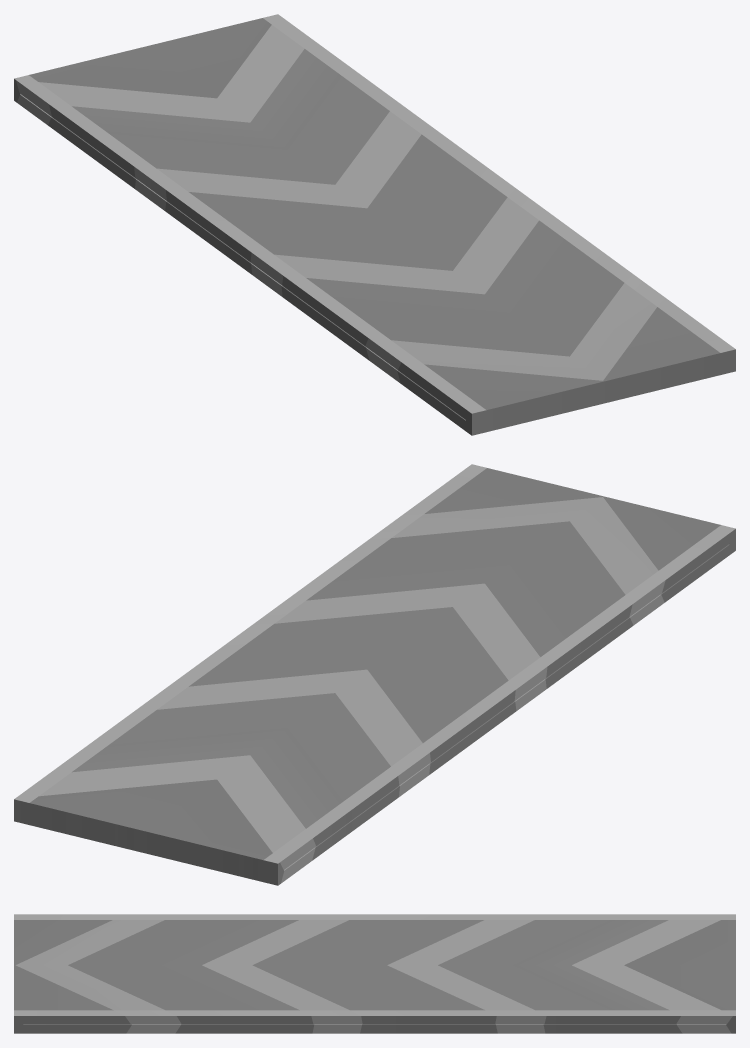
The model's file is mainway (4).fbx.
3 views of the same model, one above another, from view 1: azimuth 30°, elevation 25°; view 2: azimuth 150°, elevation 25°; view 3: azimuth 270°, elevation 25° (orthographic). The views are drawn at different scales.
Parts seen in each view (by area): view 1: platform arrow way; view 2: platform arrow way; view 3: platform arrow way.
Part boxes in pixels (x1,y1,x2,y2): platform arrow way: (14,14,735,435); platform arrow way: (14,464,735,885); platform arrow way: (14,914,735,1033).
Bounding box in the file's own units: 984 × 78.57 × 2955.
